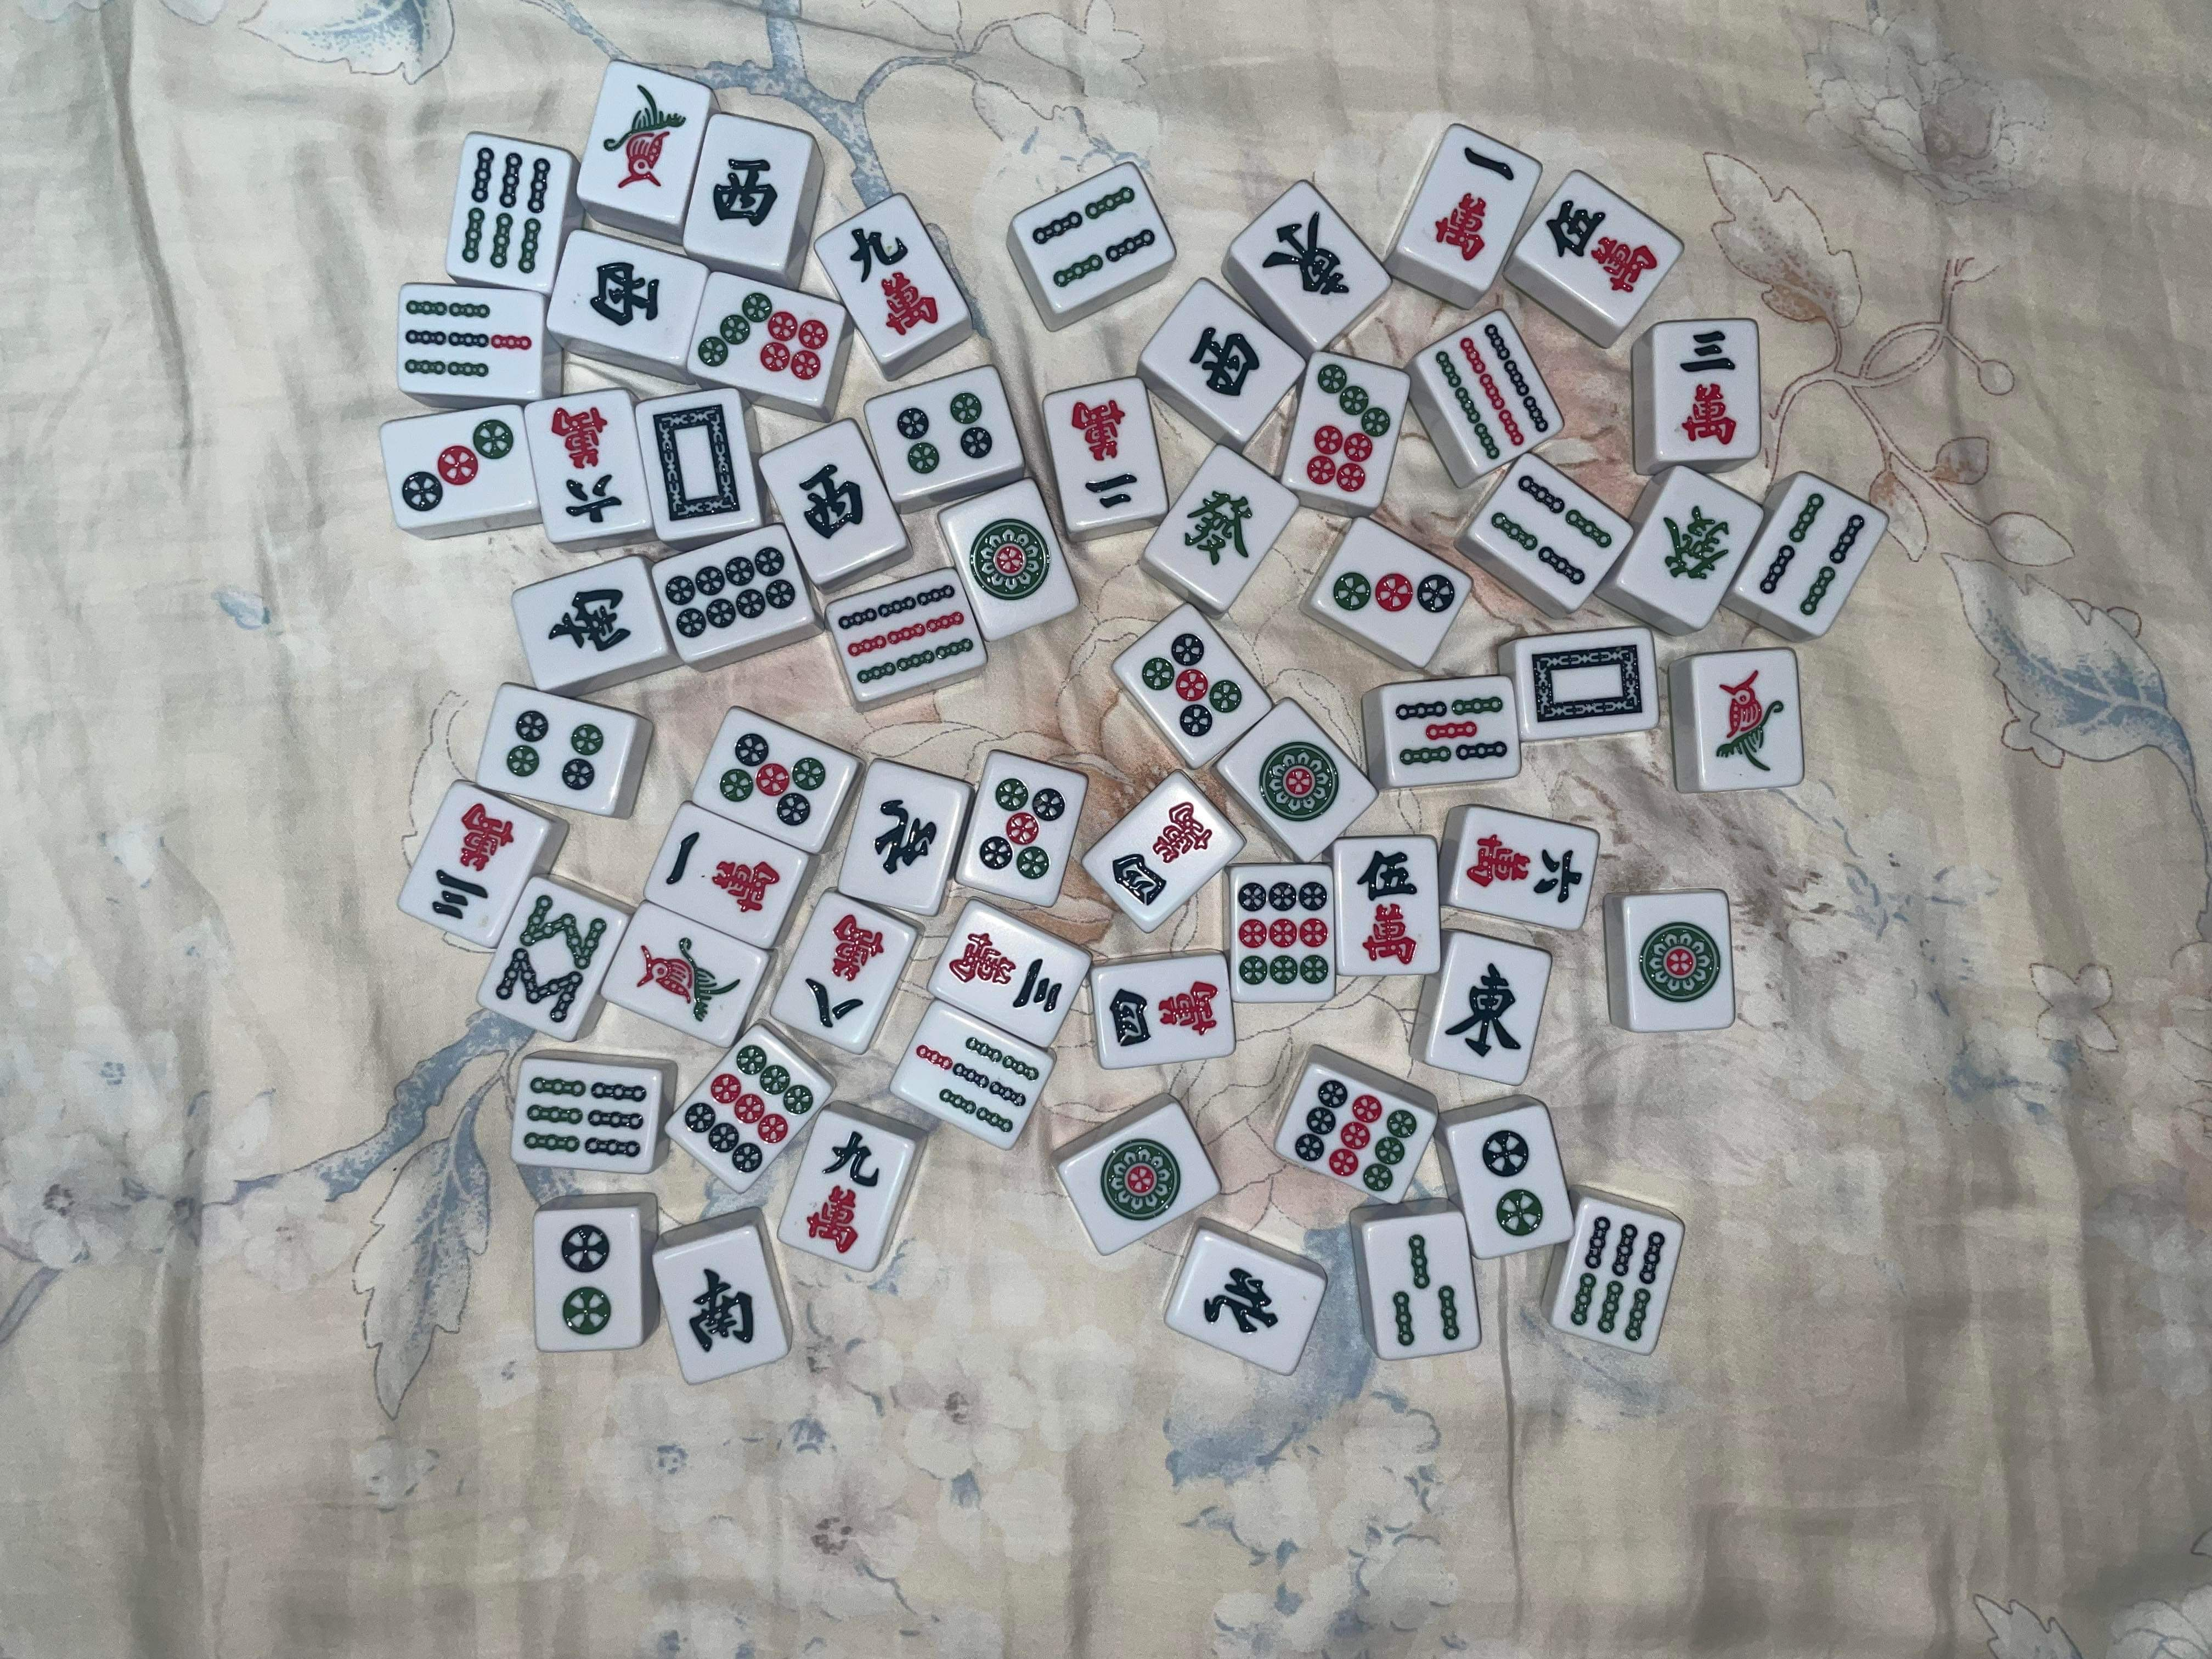b-1: (597, 84, 690, 192), (634, 936, 742, 1021), (1710, 666, 1792, 774)
b-3: (1392, 1232, 1463, 1349)
b-4: (1489, 474, 1613, 587), (1759, 491, 1865, 617), (1031, 186, 1155, 288)
b-5: (1393, 695, 1510, 765)
b-6: (460, 145, 550, 275), (523, 1073, 648, 1161)
b-7: (916, 1037, 1040, 1134), (404, 300, 533, 383)
b-8: (495, 894, 608, 1023)
b-9: (1435, 324, 1552, 460), (838, 586, 974, 685)
c-1: (1432, 145, 1517, 263), (664, 831, 779, 913)
c-2: (1071, 399, 1137, 509)
c-3: (430, 803, 516, 929), (948, 929, 1062, 1012), (1672, 326, 1749, 450)
c-4: (1111, 798, 1212, 906), (1108, 979, 1221, 1047)
c-5: (1545, 200, 1660, 295), (1357, 850, 1420, 965)
c-6: (547, 406, 625, 525), (1467, 833, 1585, 904)
c-8: (803, 915, 887, 1028)
c-9: (846, 227, 939, 335)
d-1: (1637, 922, 1723, 1009), (970, 518, 1052, 603), (1099, 1138, 1181, 1222), (1258, 741, 1339, 823)
d-2: (1477, 1127, 1550, 1239), (559, 1222, 618, 1335)
d-3: (397, 416, 517, 512), (1331, 566, 1458, 617)
d-4: (503, 709, 606, 791), (895, 392, 993, 476)
d-5: (1143, 633, 1244, 741), (719, 728, 827, 828), (977, 777, 1068, 882)
d-6: (1569, 1215, 1667, 1344)
d-7: (695, 291, 829, 380), (1306, 362, 1390, 491)
d-8: (664, 547, 798, 640)
d-9: (683, 1044, 813, 1173), (1294, 1079, 1418, 1192), (1238, 880, 1331, 988)
honors-east: (1442, 955, 1529, 1065), (1261, 213, 1350, 295)
honors-green: (1183, 490, 1254, 566), (1662, 505, 1731, 579)
honors-north: (1204, 1267, 1280, 1335), (873, 800, 941, 875)
honors-south: (543, 584, 639, 655), (686, 1265, 758, 1354)
honors-west: (1188, 321, 1268, 396), (711, 152, 780, 227), (587, 260, 662, 328), (799, 464, 866, 537)
honors-white: (653, 401, 737, 525), (1529, 641, 1649, 725)
